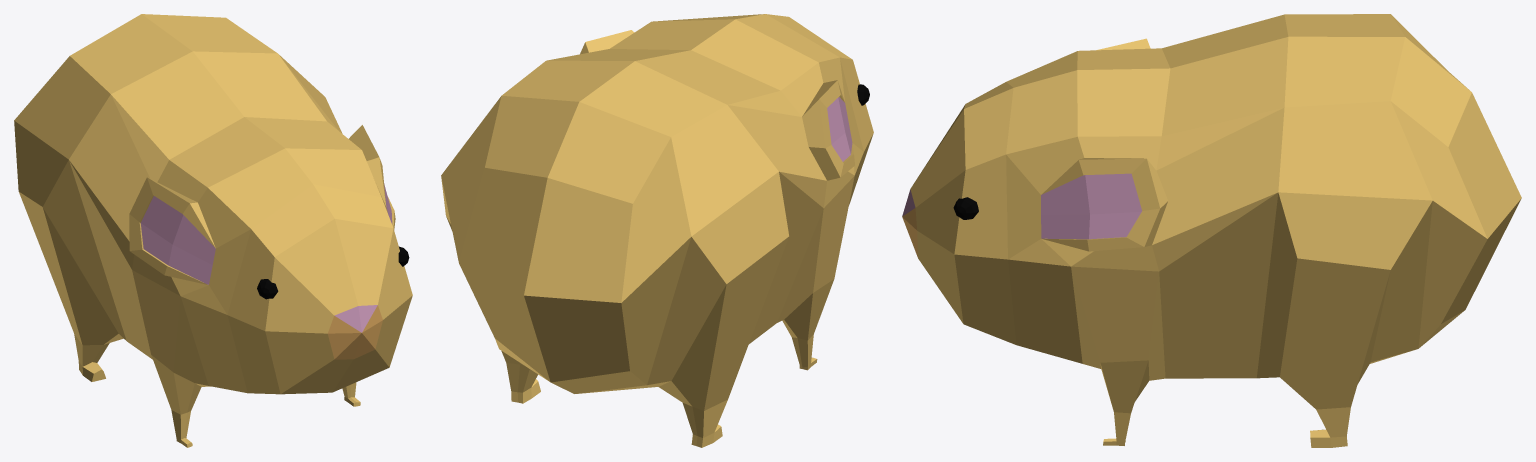
File: HAM_01.fbx
3 views of the same model, side by side, from view 1: azimuth 30°, elevation 25°; view 2: azimuth 150°, elevation 25°; view 3: azimuth 270°, elevation 25° (orthographic). The views are drawn at different scales.
Visible parts, largest first — view 1: HAM_01; view 2: HAM_01; view 3: HAM_01.
Part boxes in pixels (x1,y1,x2,y2): HAM_01: (14,14,412,447); HAM_01: (441,14,873,447); HAM_01: (902,14,1521,447).
Size of the model in its own units: 256 by 264 by 412.
